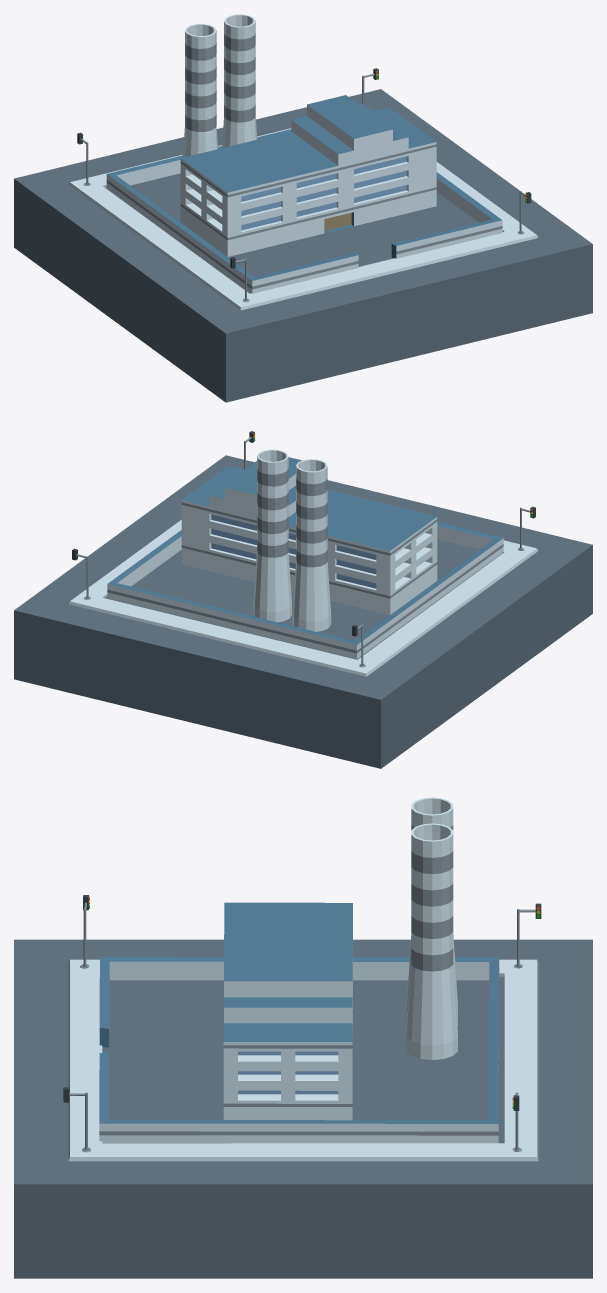
File: power-plant.glb
The picture shows the model from 3 angles, top to bottom: view 1: azimuth 30°, elevation 25°; view 2: azimuth 150°, elevation 25°; view 3: azimuth 270°, elevation 25°; orthographic projection. The views are drawn at different scales.
Parts seen in each view (by area): view 1: Cube.001, Cube, Cube.002, Cylinder.005, Cylinder; view 2: Cube.001, Cube, Cube.002, Cylinder, Cylinder.005; view 3: Cube.001, Cube, Cube.002, Cylinder.005, Cylinder.
Boxes of the visible parts, left/top/right/bottom form: Cube.001: left=14, top=89, right=592, bottom=402; Cube: left=180, top=95, right=436, bottom=256; Cube.002: left=106, top=129, right=502, bottom=293; Cylinder.005: left=222, top=14, right=257, bottom=147; Cylinder: left=183, top=24, right=217, bottom=157; Cube.001: left=14, top=455, right=592, bottom=768; Cube: left=181, top=457, right=437, bottom=615; Cube.002: left=107, top=522, right=503, bottom=658; Cylinder: left=292, top=459, right=331, bottom=631; Cylinder.005: left=253, top=449, right=291, bottom=622; Cube.001: left=14, top=939, right=592, bottom=1278; Cube: left=223, top=902, right=352, bottom=1120; Cube.002: left=99, top=957, right=499, bottom=1143; Cylinder.005: left=406, top=823, right=457, bottom=1059; Cylinder: left=406, top=797, right=457, bottom=1025.
Bounding box in the file's own units: 17.05 × 10.16 × 17.05.
